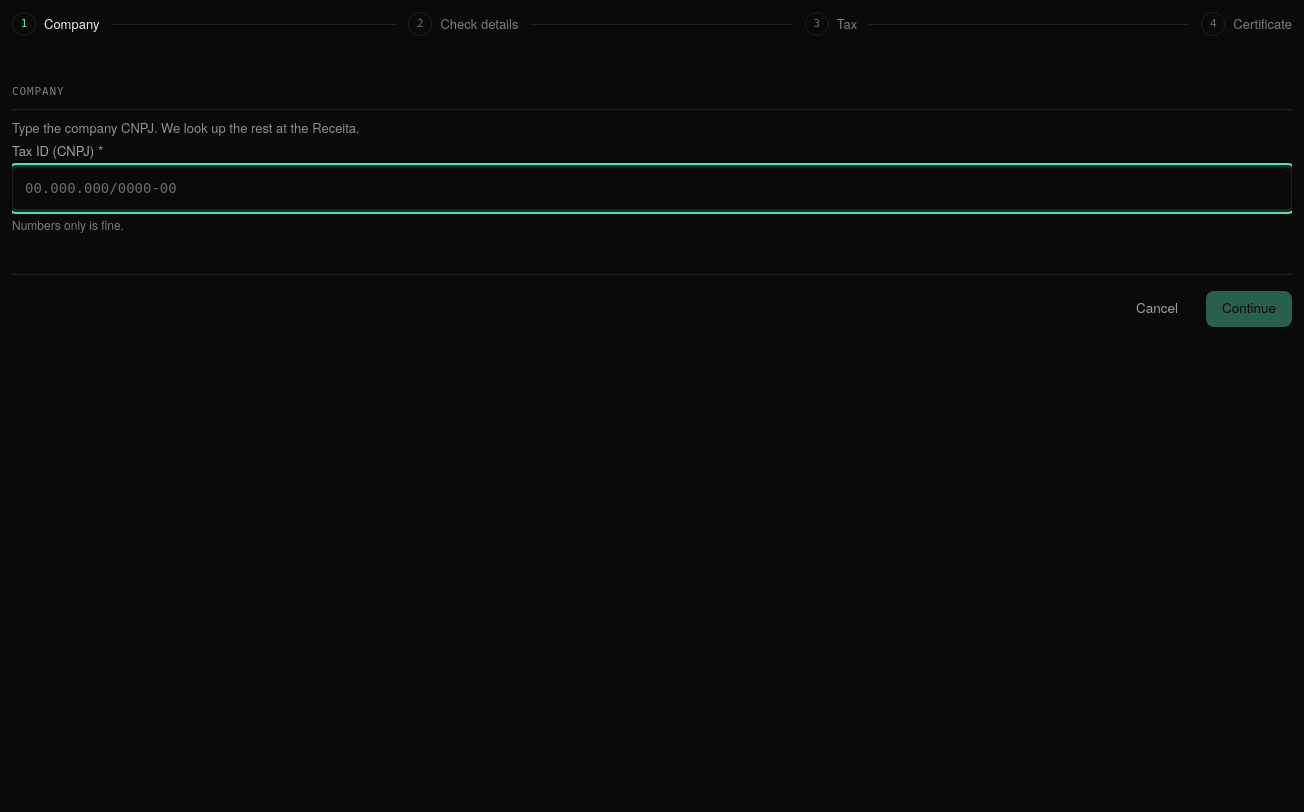
Test: CompanyForm starts with the CNPJ › warns about a CNPJ the Receita does not know, but lets the person fill it in by hand anyway
The image size is (1304, 812).
Type "11222333000181" into the field labelled "Tax ID (CNPJ)*".
click(652, 188); type("11222333000181")  # box [12,166,1292,210]
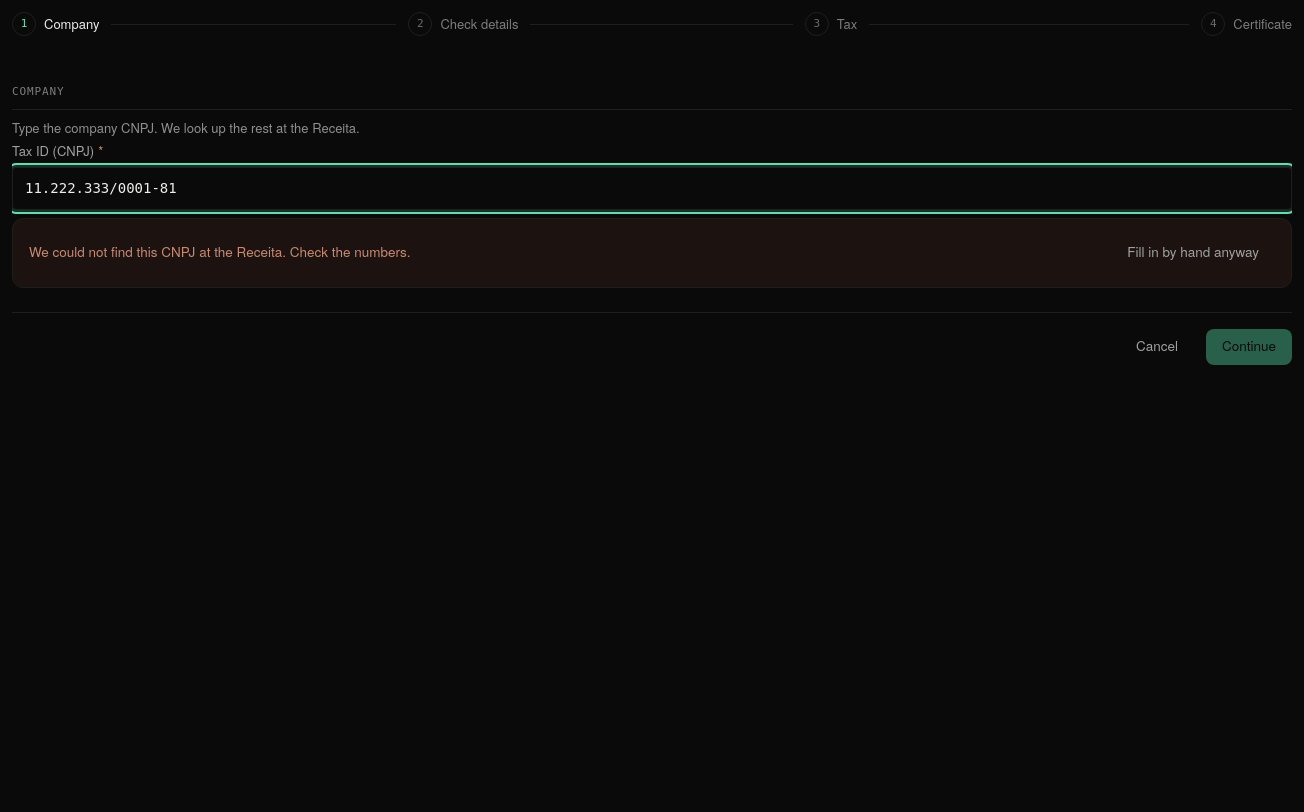
Expected: the field labelled "legal name" is not shown
Expected: the text "could not find this CNPJ at the Receita" is shown, [29,242,411,261]
Click the button "Fill in by hand anyway".
click(1193, 252)  # box [1111,234,1275,270]
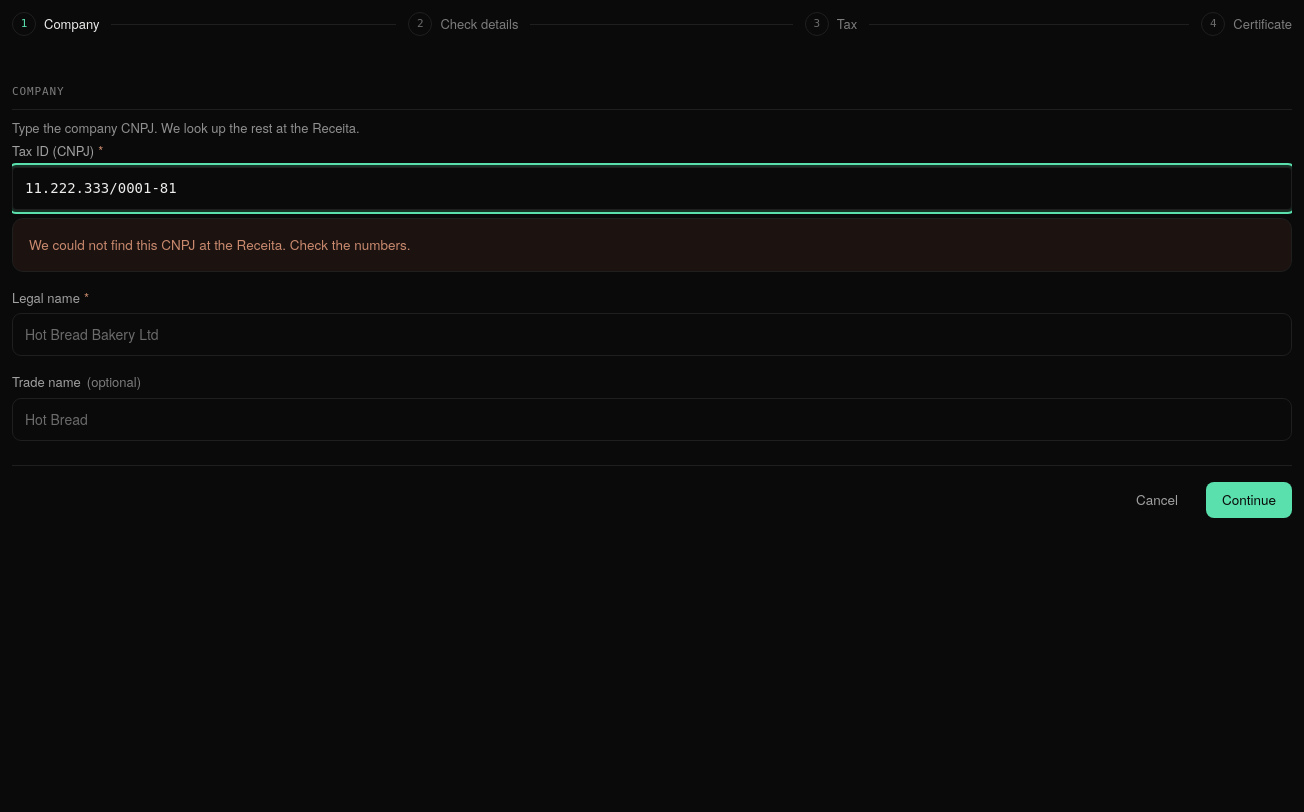
Expected: the field labelled "Legal name*" is shown
Expected: the button "Continue" is enabled, [1206,482,1292,518]
Type "MEI Nova" into the field labelled "Legal name*".
click(652, 335); type("MEI Nova")  # box [12,313,1292,356]
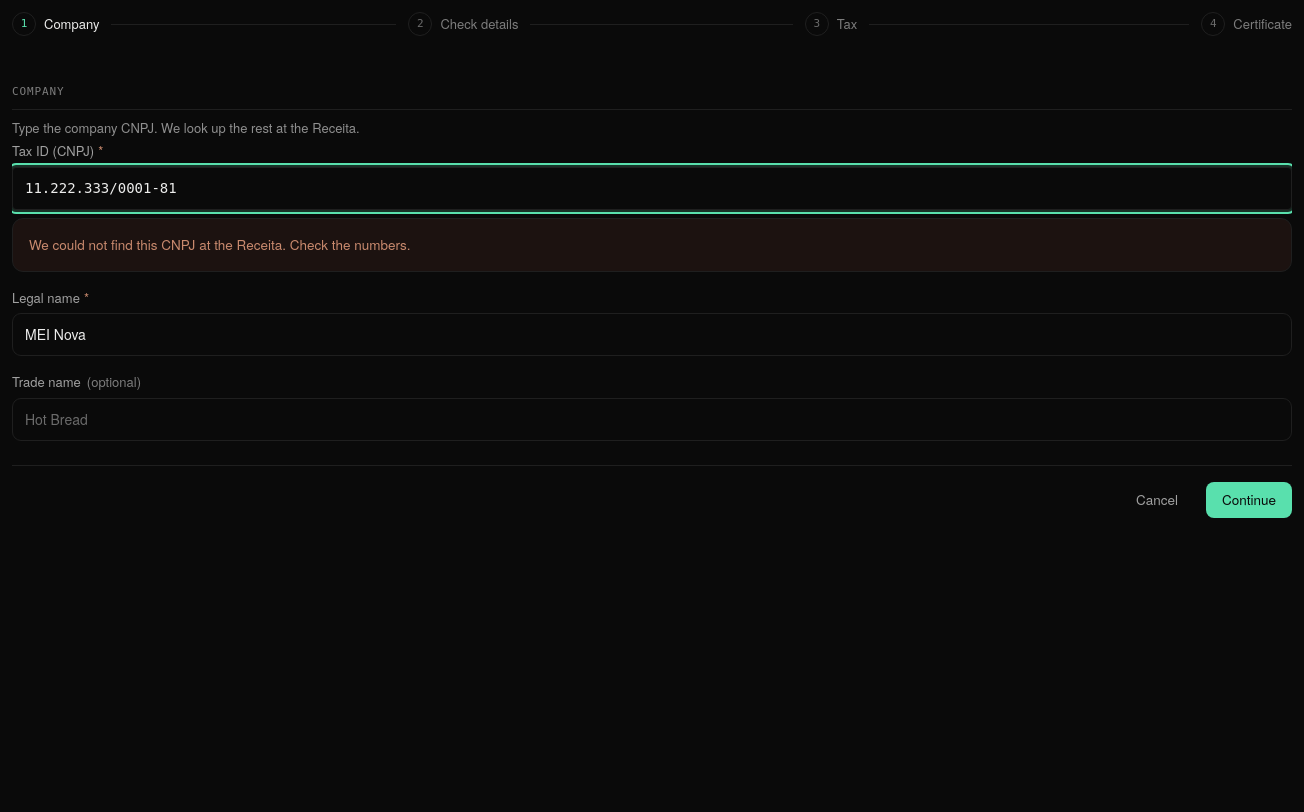
Click the button "Continue".
click(1249, 500)  # box [1206,482,1292,518]
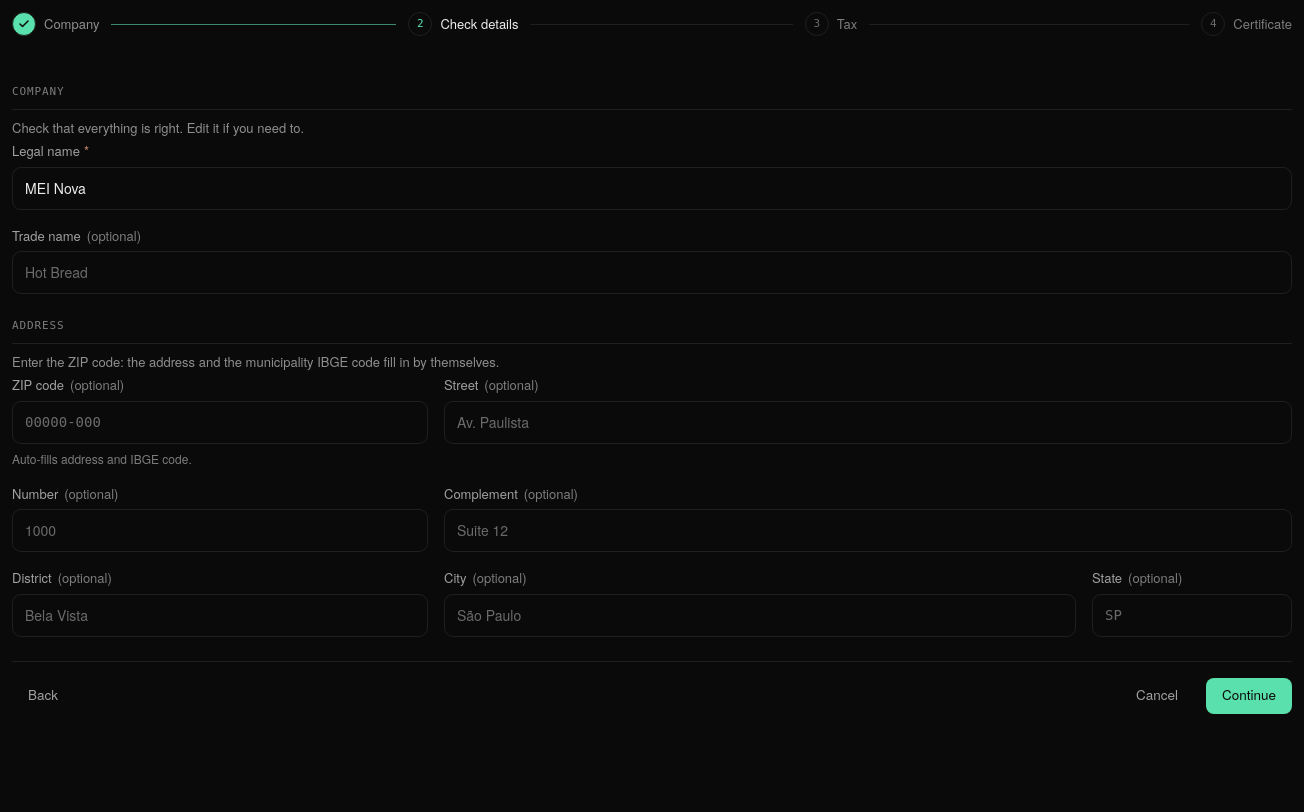
Expected: the field labelled "Legal name*" holds "MEI Nova", [12,166,1292,210]
